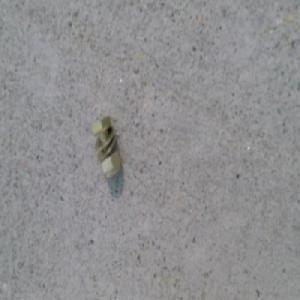BoltNutSet: (91, 113, 121, 178)
